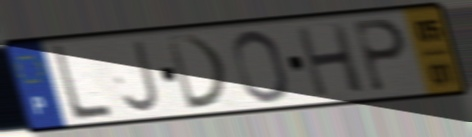D: (163, 33, 231, 113)
H: (293, 21, 368, 99)
J: (119, 37, 164, 116)
L: (49, 43, 116, 124)
O: (229, 28, 293, 106)
P: (351, 17, 410, 94)
